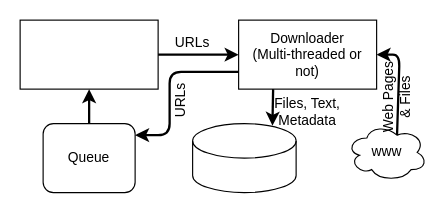
The diagram is 447 pixels wide and 213 high, and some of its shapes have lost their labels. Here are the shapes that lost their labels. From the top down, the box of each, then its label:
(19, 19, 158, 89): Scheduler
(191, 122, 296, 193): Storage (DB, File, etc.)
